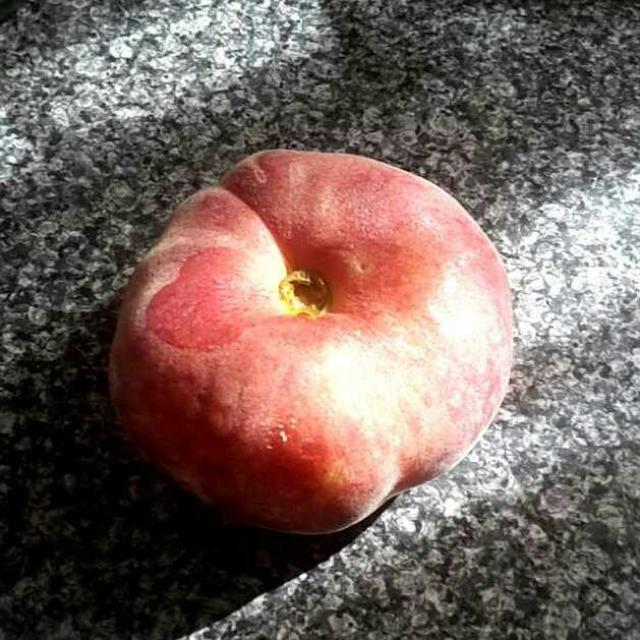peach: (104, 140, 528, 547), (96, 145, 533, 537), (107, 145, 520, 529), (118, 147, 520, 521), (111, 153, 509, 517)
